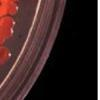red: (0, 25, 15, 47), (0, 44, 13, 68), (0, 16, 18, 28), (6, 3, 20, 17), (0, 3, 9, 17), (0, 0, 20, 4)
